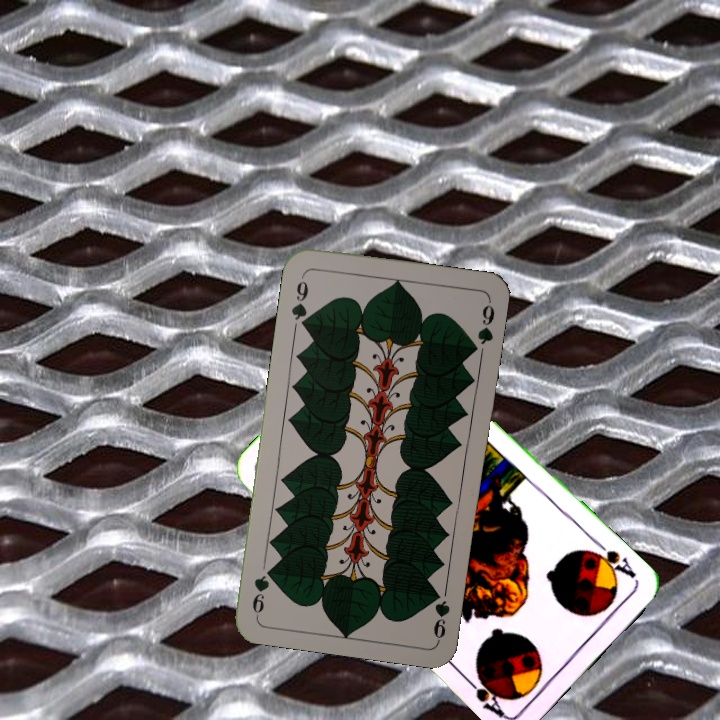G9: (287, 271, 311, 331), (429, 588, 453, 643)
SA: (585, 537, 639, 582)
